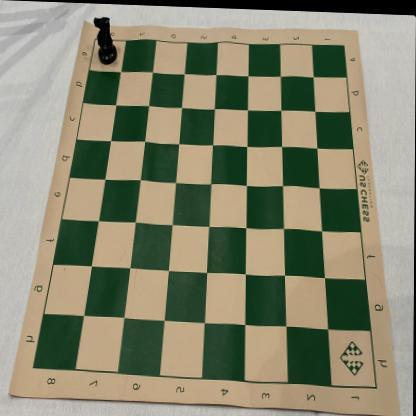black-knight: (93, 16, 118, 65)
